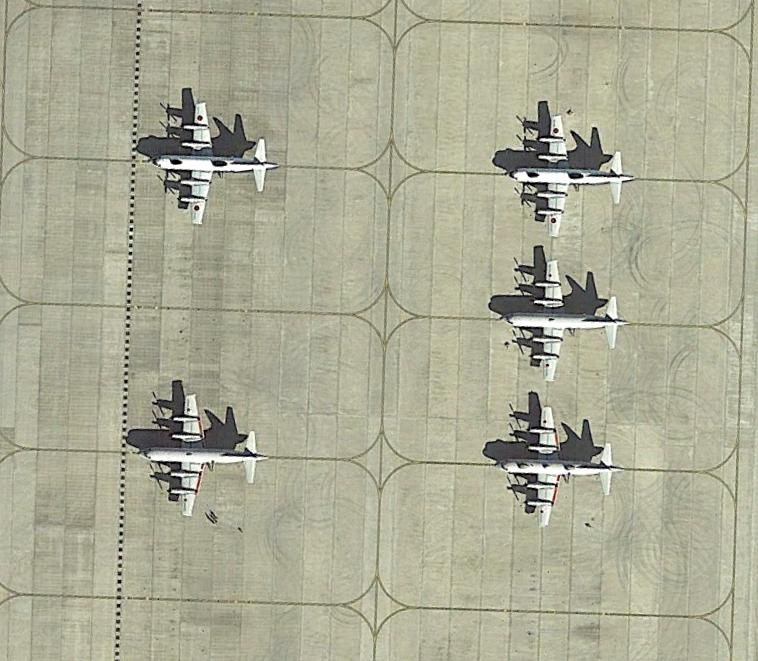A9: (147, 93, 289, 230), (504, 102, 645, 238), (134, 392, 275, 528), (496, 251, 637, 387), (494, 396, 635, 532)
